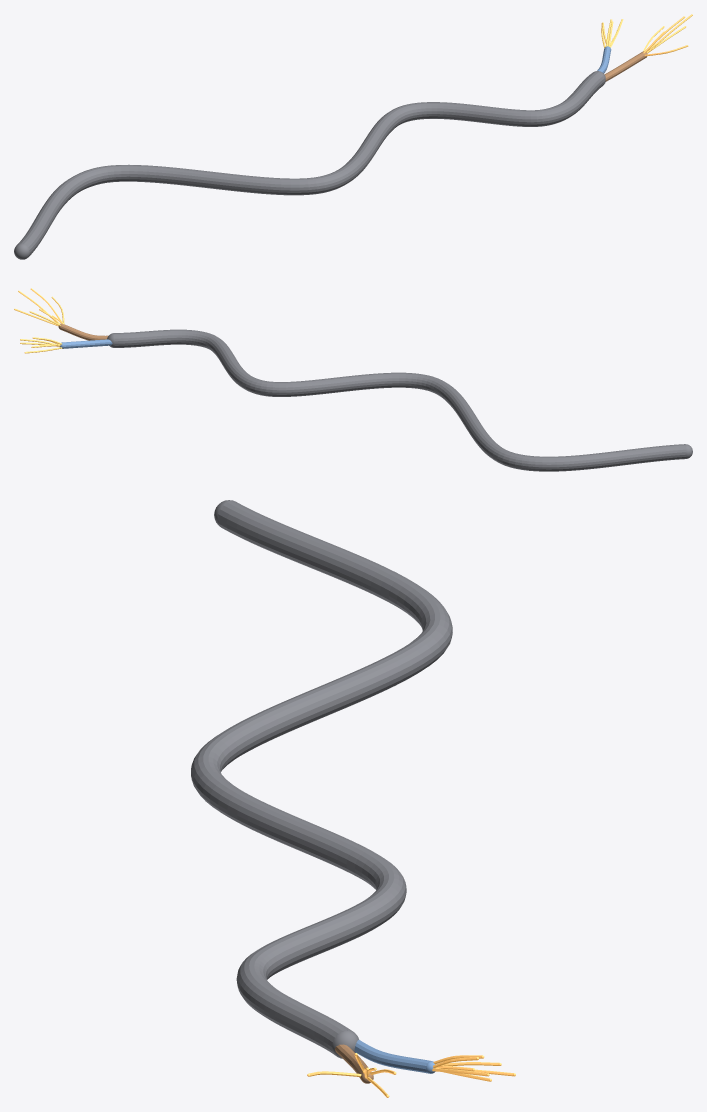
File: wire.glb
3 renders of one model, top to bottom at view 1: azimuth 30°, elevation 25°; view 2: azimuth 150°, elevation 25°; view 3: azimuth 270°, elevation 25°, orthographic. The views are drawn at different scales.
Visible parts, largest first — view 1: Wire_Cable, Wire_Copper; view 2: Wire_Cable, Wire_Copper, Wire_Core_Blue, Wire_Core_Brown; view 3: Wire_Cable, Wire_Copper, Wire_Core_Blue.
Boxes of the visible parts, <box> form: Wire_Cable: <box>14,71,605,259</box>; Wire_Copper: <box>601,14,692,56</box>; Wire_Cable: <box>107,329,692,471</box>; Wire_Copper: <box>14,288,64,353</box>; Wire_Core_Blue: <box>60,339,112,348</box>; Wire_Core_Brown: <box>58,323,108,340</box>; Wire_Cable: <box>191,500,452,1058</box>; Wire_Copper: <box>307,1053,515,1097</box>; Wire_Core_Blue: <box>354,1040,435,1073</box>.
Size of the model in its own units: 0.6367 by 0.0395 by 0.1402.
